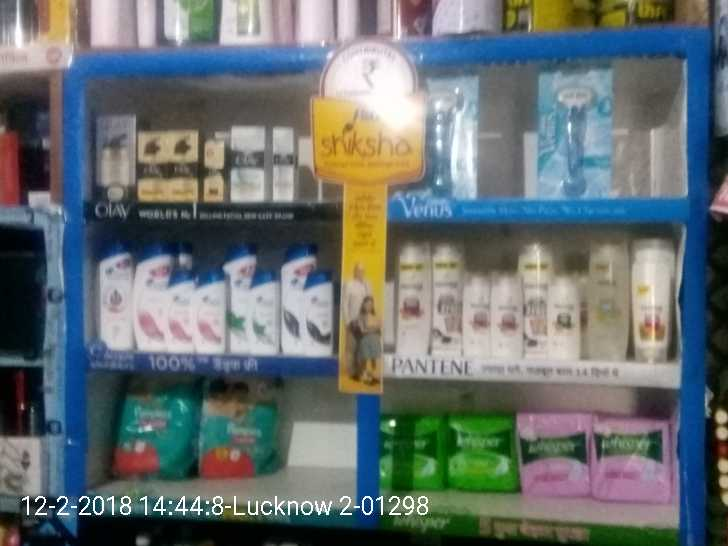venus: (538, 65, 613, 195), (426, 75, 476, 196)
